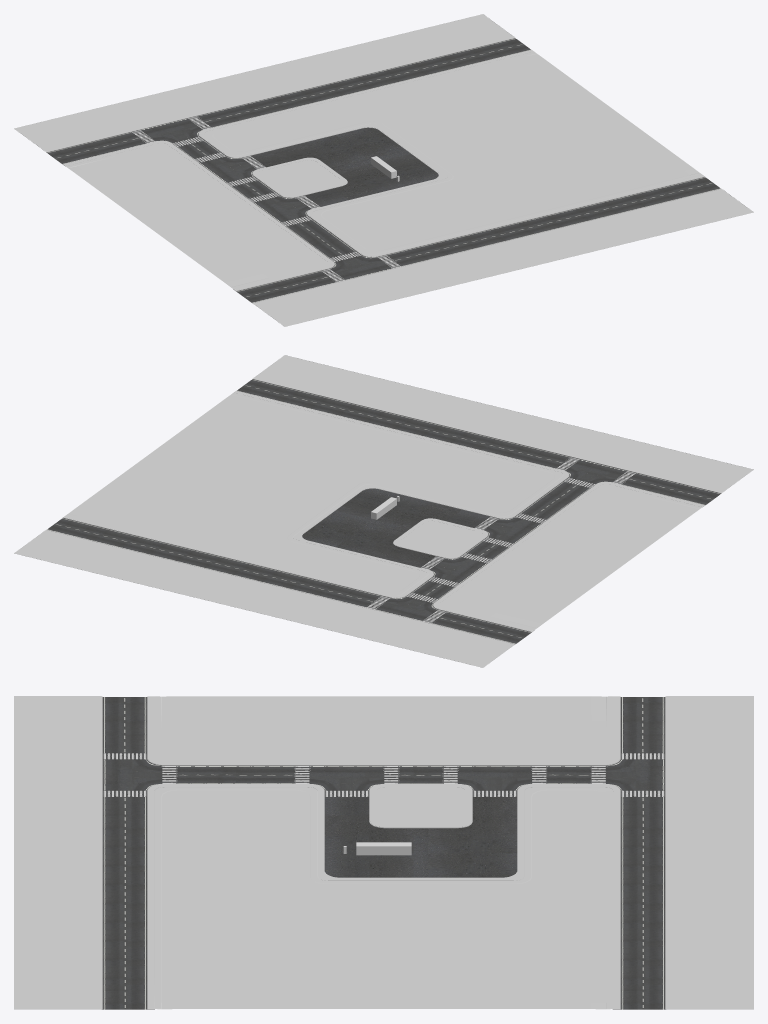
The model's file is VRTransitLevel4.fbx.
3 renders of one model, top to bottom at view 1: azimuth 30°, elevation 25°; view 2: azimuth 150°, elevation 25°; view 3: azimuth 270°, elevation 25°, orthographic. The views are drawn at different scales.
Parts seen in each view (by area): view 1: Plane; view 2: Plane; view 3: Plane, Cube.001.
Part boxes in pixels (<box>): Plane: <box>14,14,753,326</box>; Plane: <box>14,355,753,667</box>; Plane: <box>14,696,753,1009</box>; Cube.001: <box>356,842,411,855</box>.
Size of the model in its own units: 20000 by 267 by 20000.
Materials: 2 (1 with a texture image).
